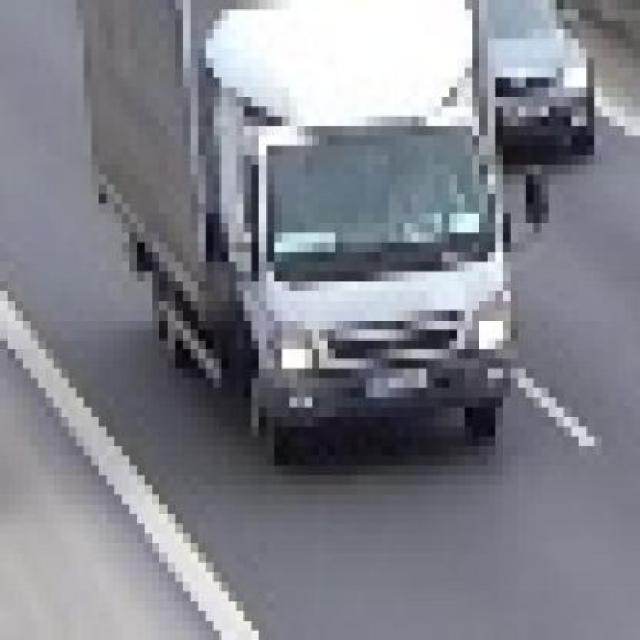truck: (101, 1, 550, 427)
